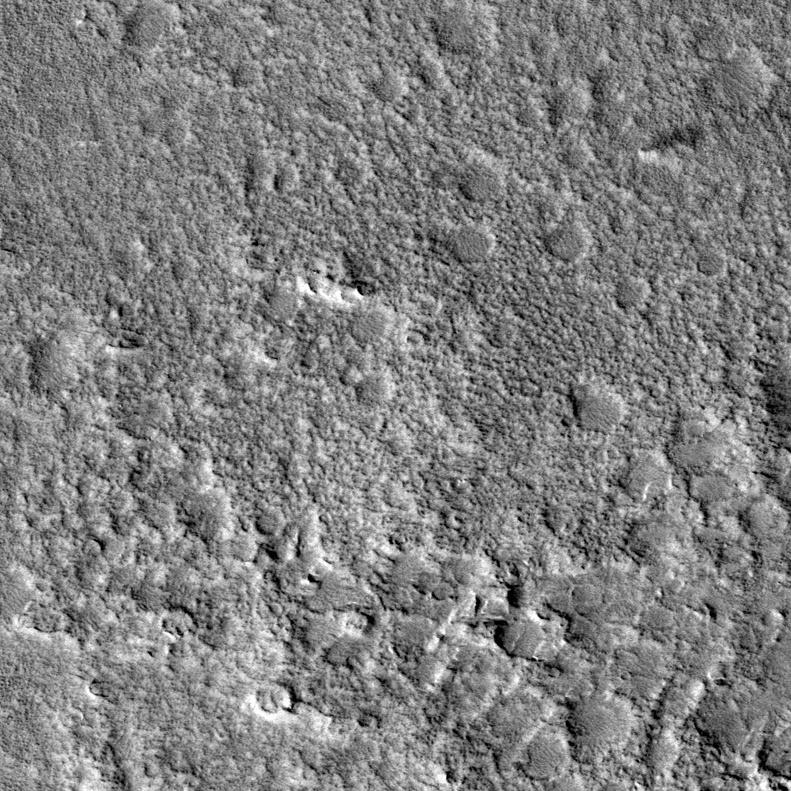dust_devil: (636, 124, 702, 167)
